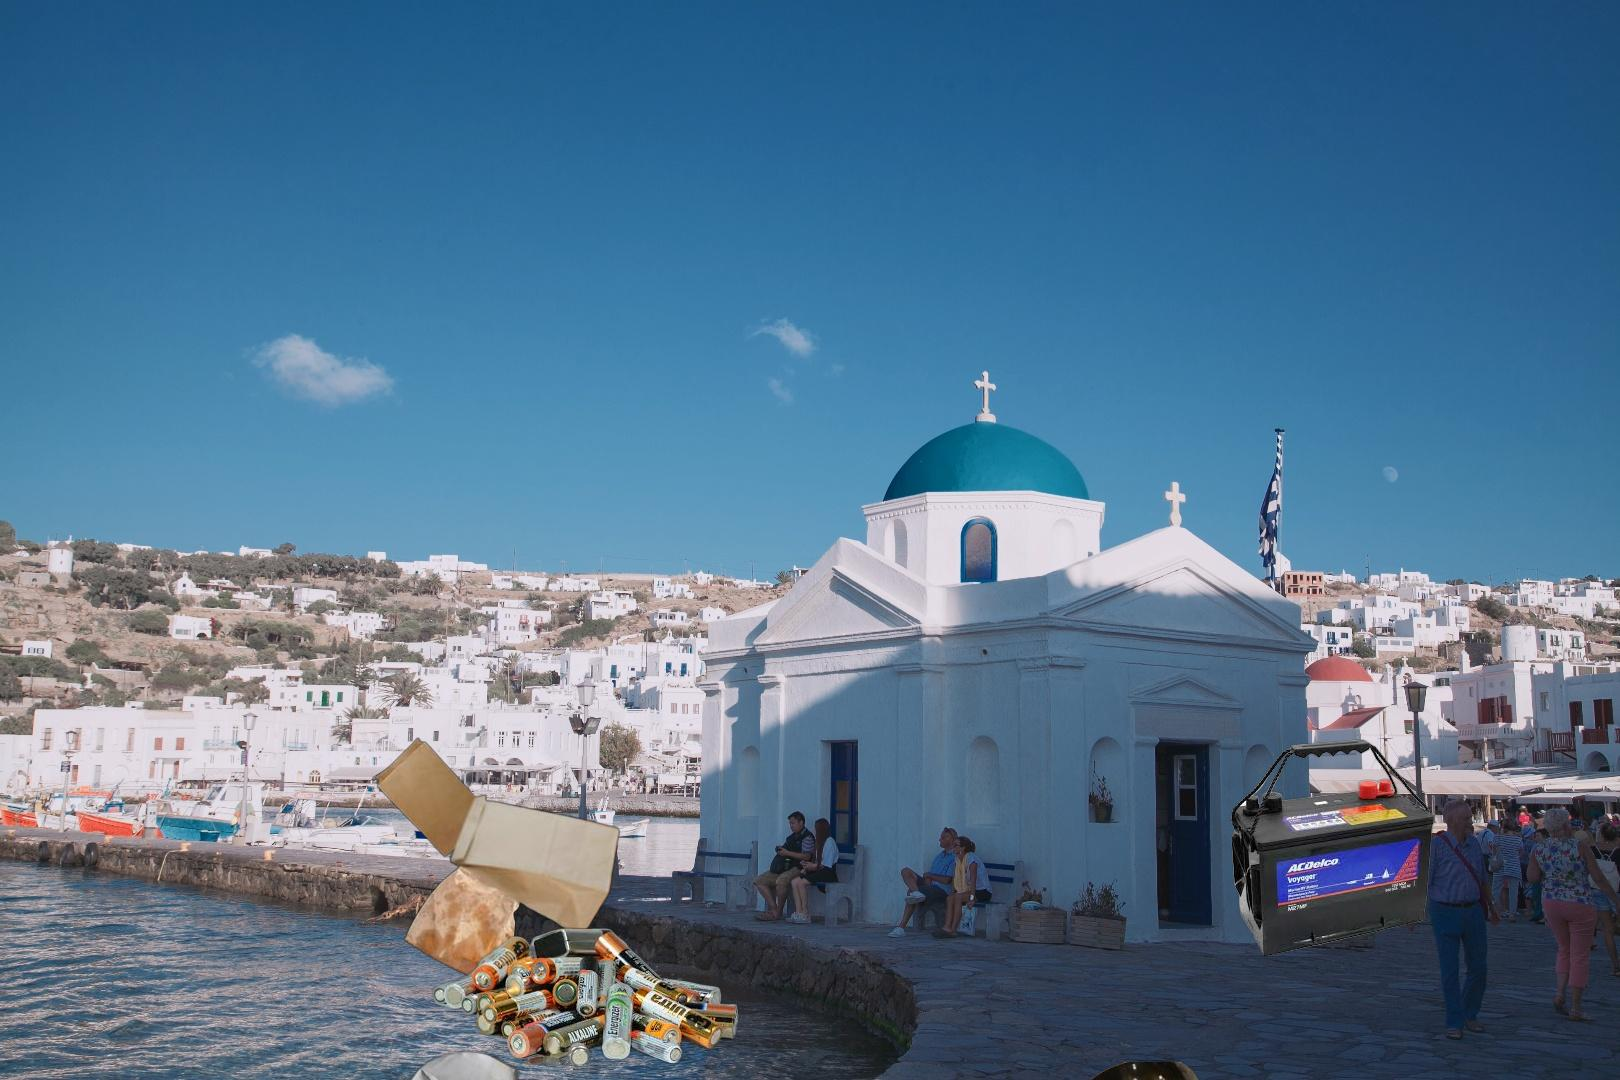battery: (428, 906, 741, 1066), (1228, 736, 1438, 959)
glass: (1072, 1062, 1282, 1080)
paper: (315, 1047, 722, 1080)
paper-bag: (374, 735, 623, 996)
